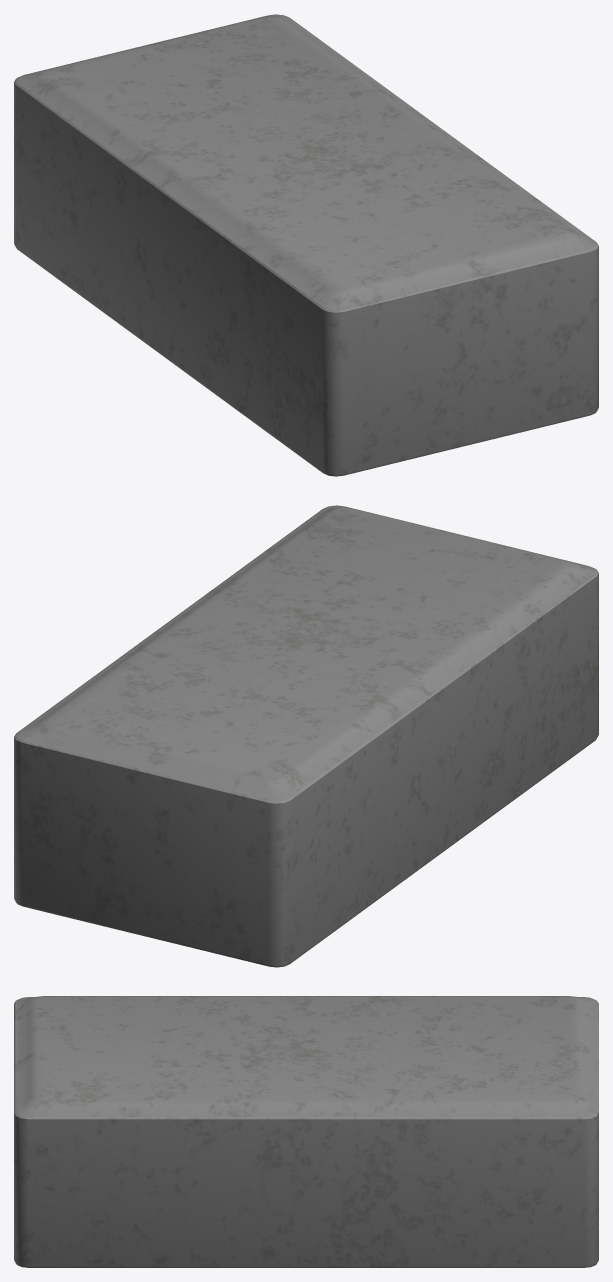
The model's file is col_classic-grey.gltf.
The picture shows the model from 3 angles, top to bottom: view 1: azimuth 30°, elevation 25°; view 2: azimuth 150°, elevation 25°; view 3: azimuth 270°, elevation 25°; orthographic projection. The views are drawn at different scales.
Parts seen in each view (by area): view 1: Colonial Classic; view 2: Colonial Classic; view 3: Colonial Classic.
Part boxes in pixels (<box>): Colonial Classic: <box>14,14,598,476</box>; Colonial Classic: <box>14,505,598,967</box>; Colonial Classic: <box>14,996,598,1267</box>.
Size of the model in its own units: 0.0984 by 0.0603 by 0.2.
1 material, 1 textured.
